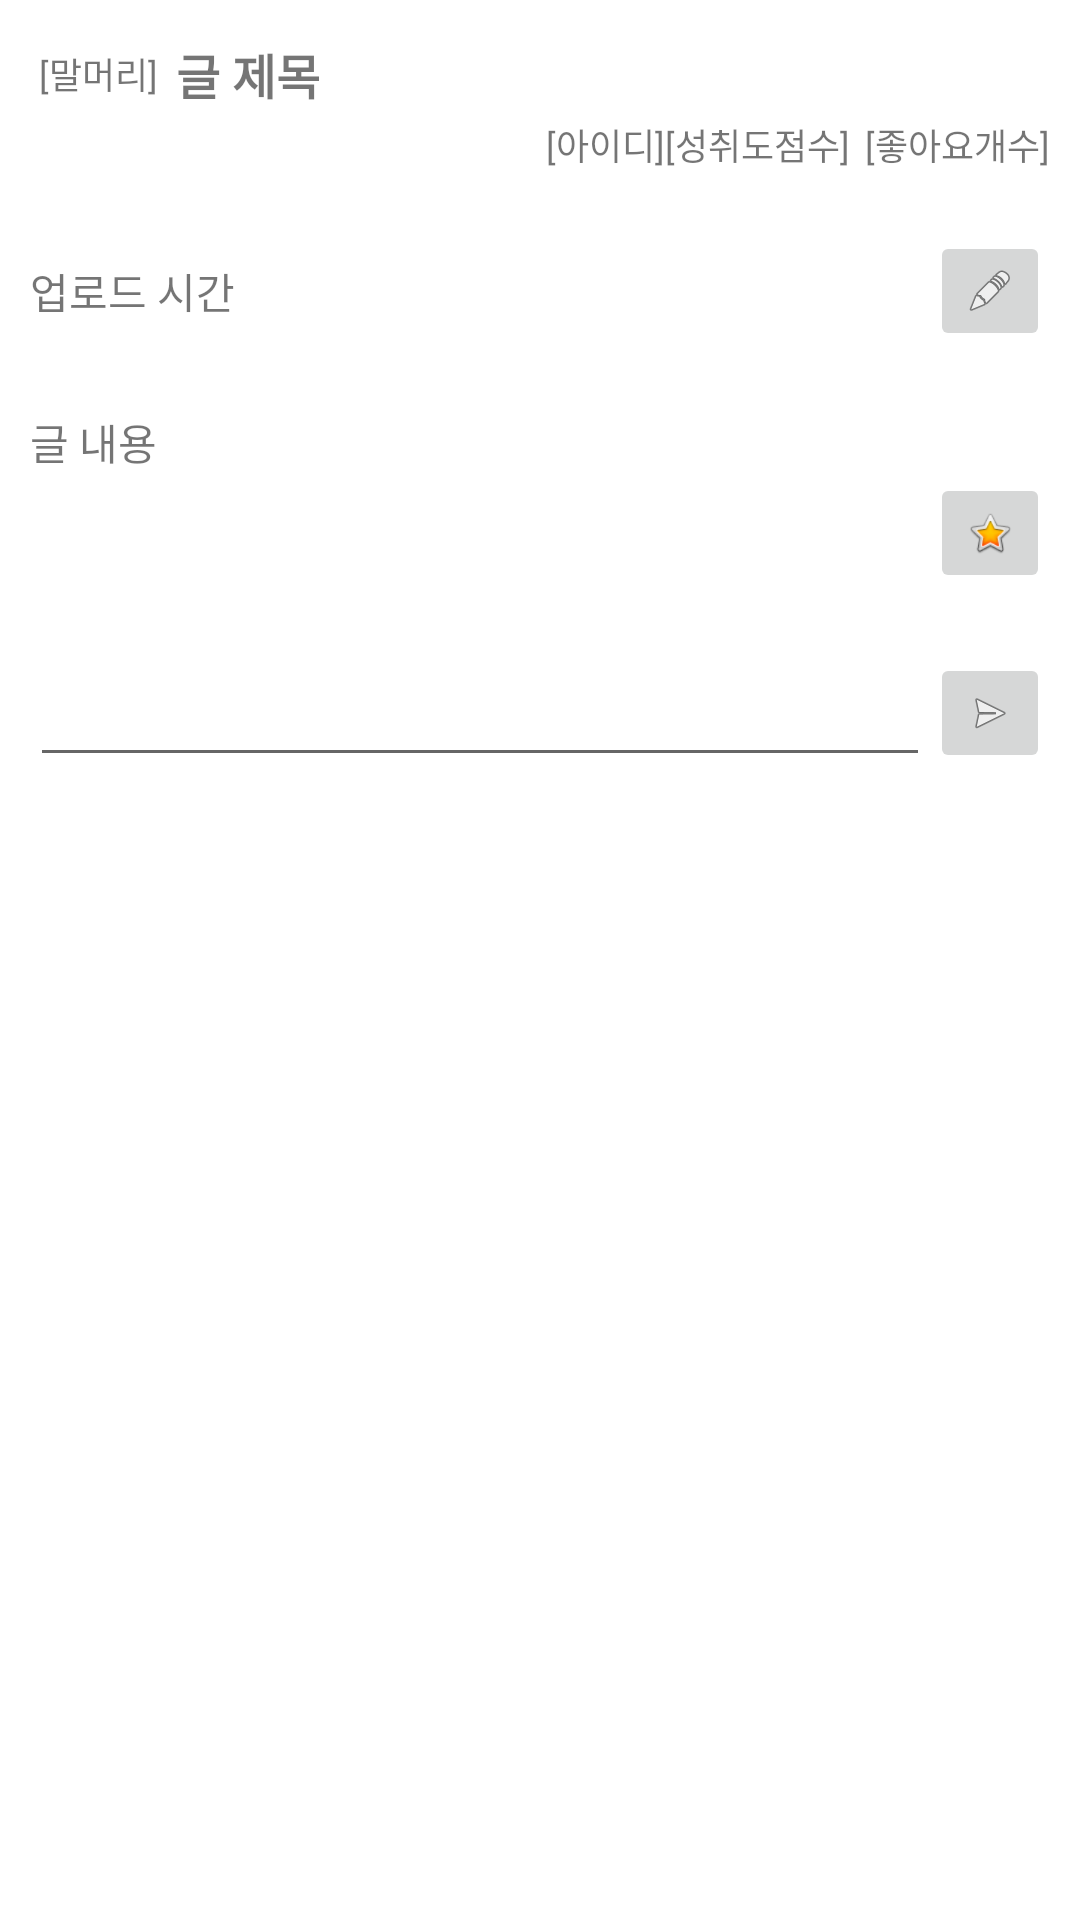

Screen size 1080 x 1920. Icon name, then its box in pixels as (x1=x1, y1=y1, x2=x2, y2=y2):
edit: (x1=942, y1=249, x2=1038, y2=333)
send: (x1=942, y1=671, x2=1038, y2=755)
star on: (x1=942, y1=491, x2=1038, y2=575)
